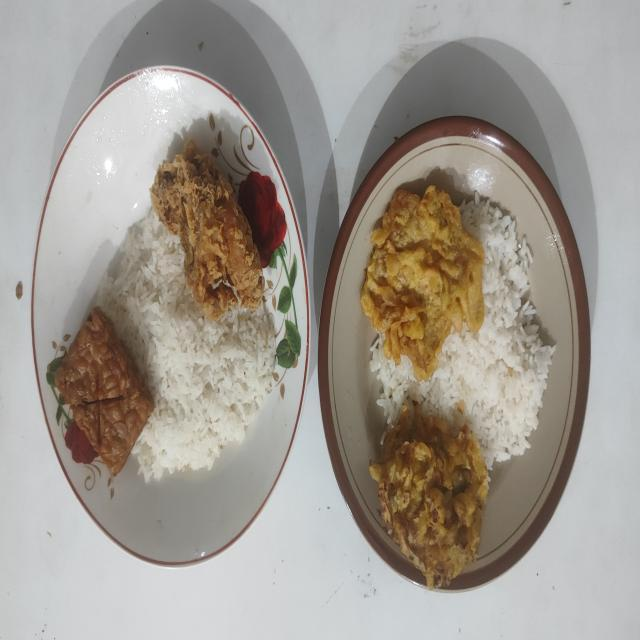nasi_putih: (369, 200, 556, 470), (96, 208, 276, 481)
tempe_goreng: (55, 307, 154, 475)
